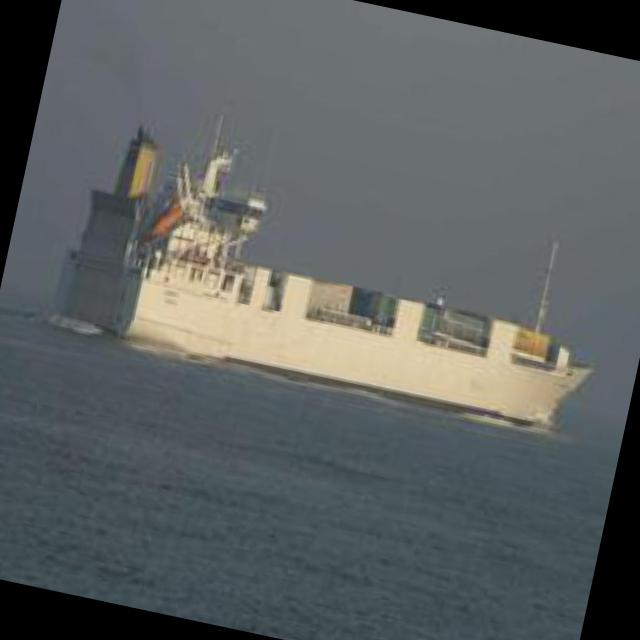boat: (53, 128, 616, 444)
